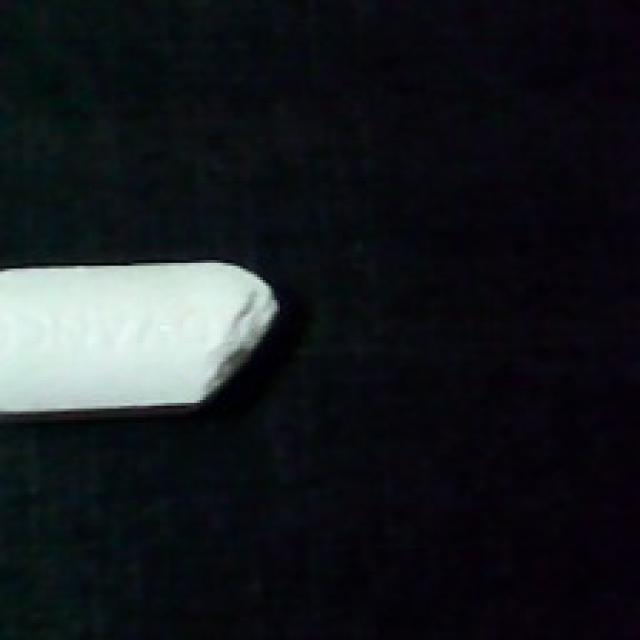defected: (0, 249, 286, 431)
